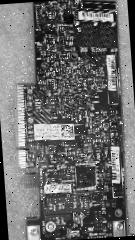electronic: (5, 0, 132, 240)
